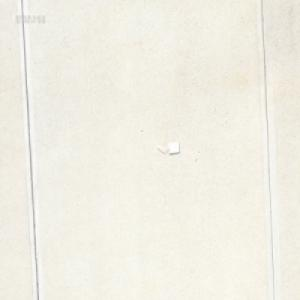LuggageTag: (154, 140, 180, 156)
